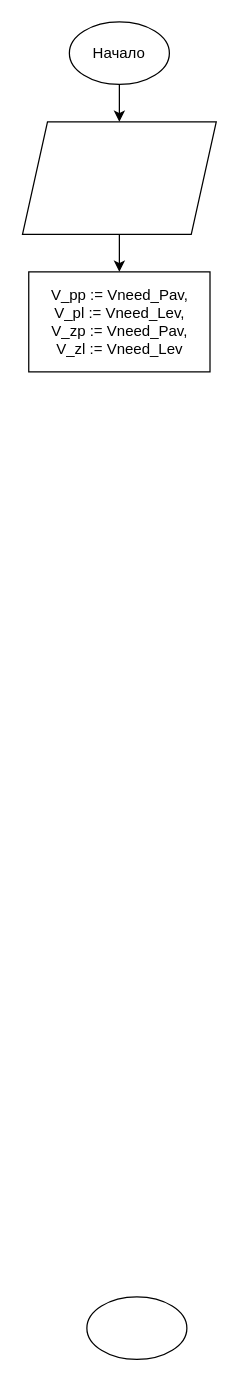
Image size: 238x1381. Some labels were removed from this diagram. The shapes that lost their labels are listed below. From the top down, each one's centre as x and y in pixels, then its label:
the point at 118,177: Ввод V_pp, V_pl, V_zp, V_zl, Vneed_Pav, Vneed_Lev
the point at 136,1327: Конец
